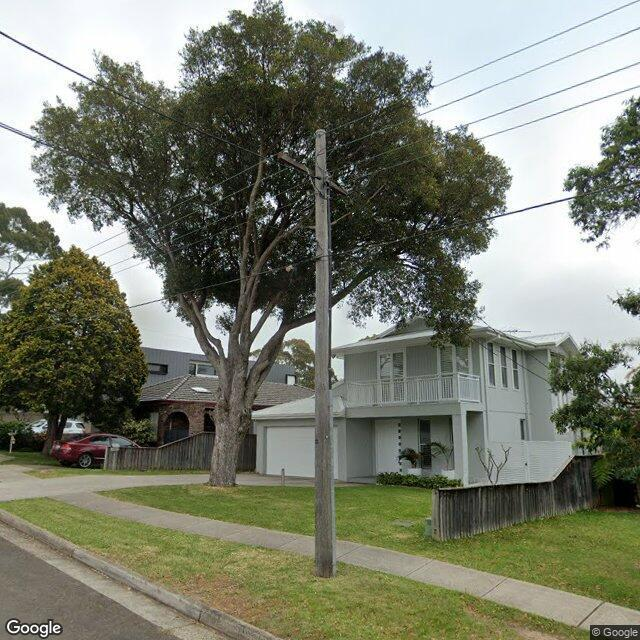crossarm: (277, 151, 350, 198)
timber-pole: (315, 129, 335, 578)
